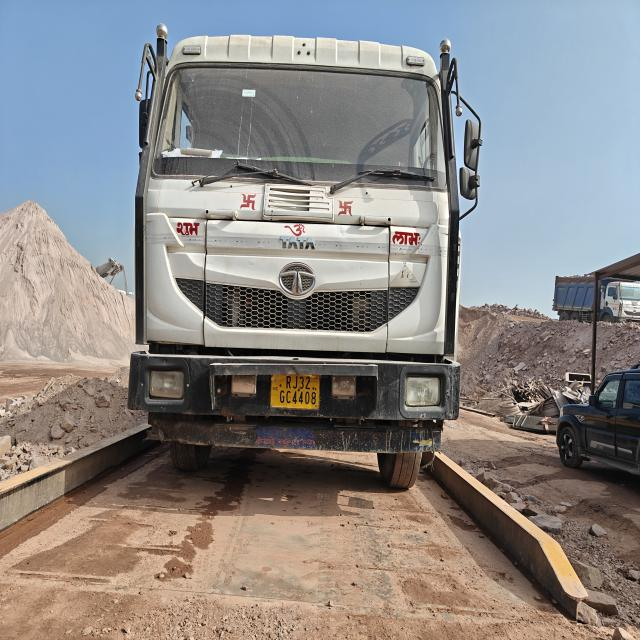license_plate: (271, 375, 319, 409)
